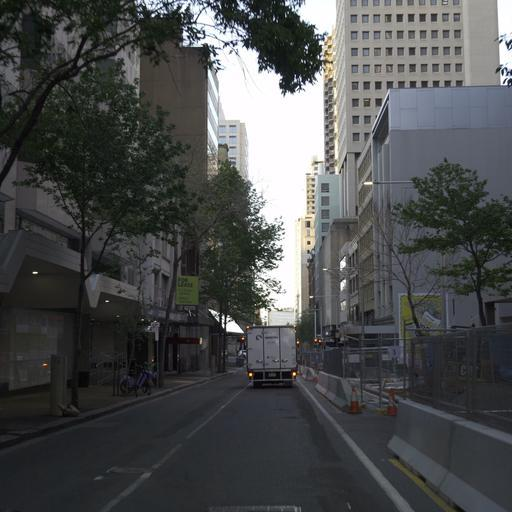Street light: (362, 177, 416, 389), (321, 266, 365, 405), (361, 178, 414, 187)
